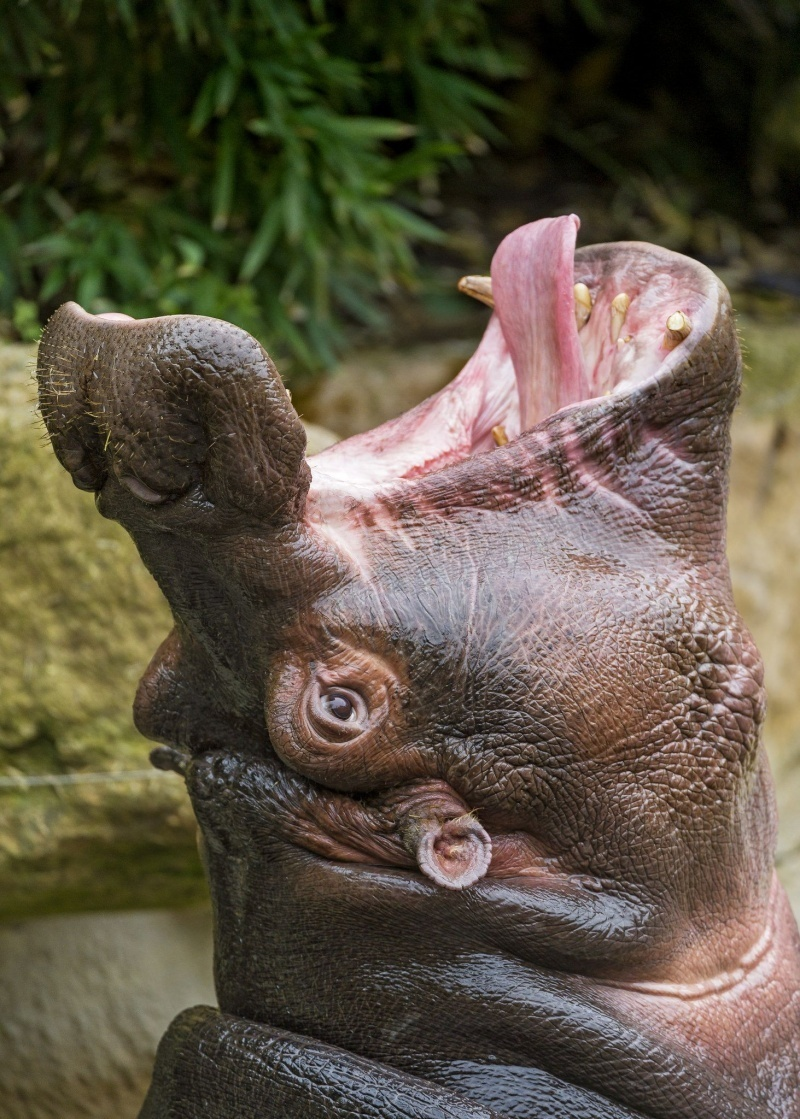hipopotamo: (11, 178, 789, 1119)
